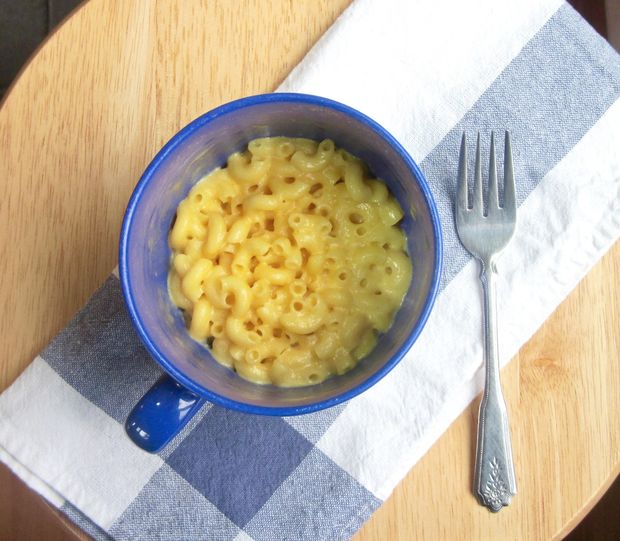macncheese: (161, 136, 410, 387)
